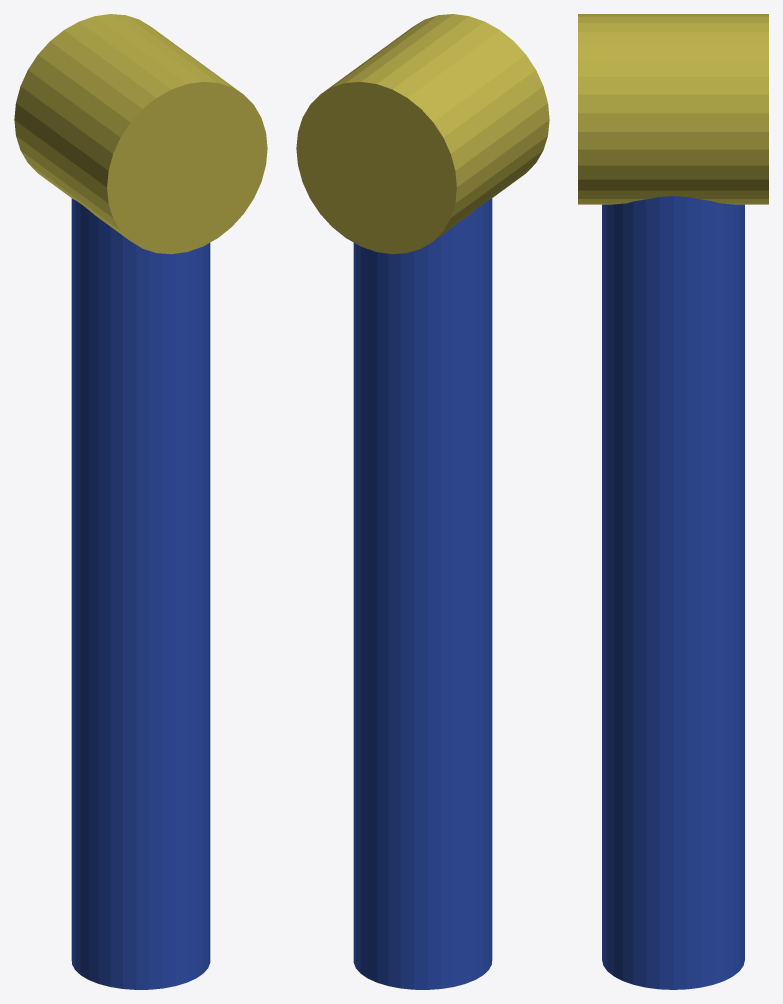
Rendered from lowerLeg.dae.
The picture shows the model from 3 angles, left to right: view 1: azimuth 30°, elevation 25°; view 2: azimuth 150°, elevation 25°; view 3: azimuth 270°, elevation 25°; orthographic projection. The views are drawn at different scales.
Visible parts, largest first — view 1: Cylinder; view 2: Cylinder; view 3: Cylinder.
Boxes of the visible parts, <box> form: Cylinder: <box>14,14,267,989</box>; Cylinder: <box>296,14,549,989</box>; Cylinder: <box>578,14,768,989</box>.
Bounding box in the file's own units: 0.08 × 0.08 × 0.4336.
